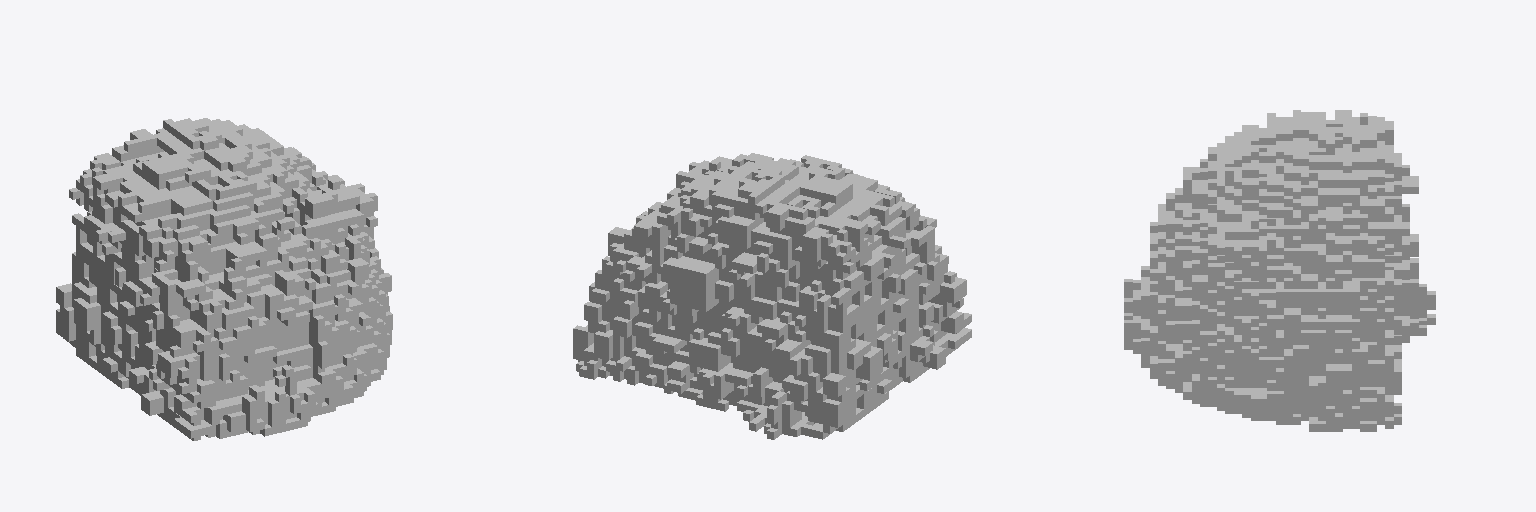
The model's file is rocher 2.obj.
The picture shows the model from 3 angles: view 1: azimuth 30°, elevation 25°; view 2: azimuth 150°, elevation 25°; view 3: azimuth 270°, elevation 25°; orthographic projection.
Parts seen in each view (by area): view 1: object 1; view 2: object 1; view 3: object 1.
Boxes of the visible parts, box(x1,y1,x2,y2) form: object 1: box(56, 118, 392, 440); object 1: box(573, 153, 971, 439); object 1: box(1124, 110, 1435, 431).
Size of the model in its own units: 3.9 by 2.8 by 3.7.